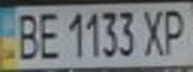1: (81, 8, 103, 59), (63, 8, 84, 60)
3: (115, 7, 142, 57), (100, 8, 121, 59)
B: (9, 9, 42, 62)
E: (33, 8, 63, 61)
P: (157, 4, 193, 56)
X: (139, 6, 172, 57)
